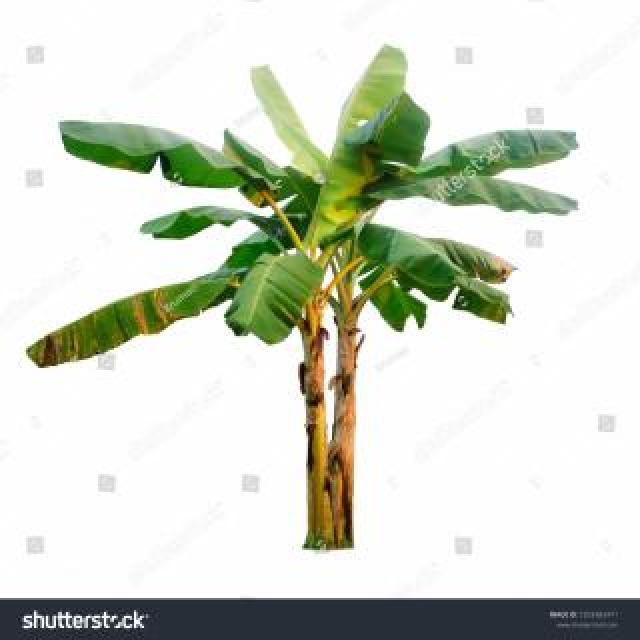Pisang: (26, 61, 584, 558)
